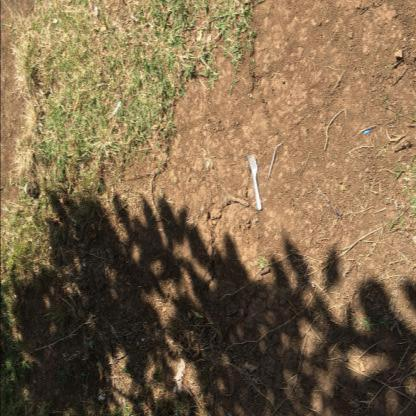Other litter: (248, 154, 261, 210)
Other plastic: (363, 130, 373, 135)
Straw: (268, 143, 282, 177)
